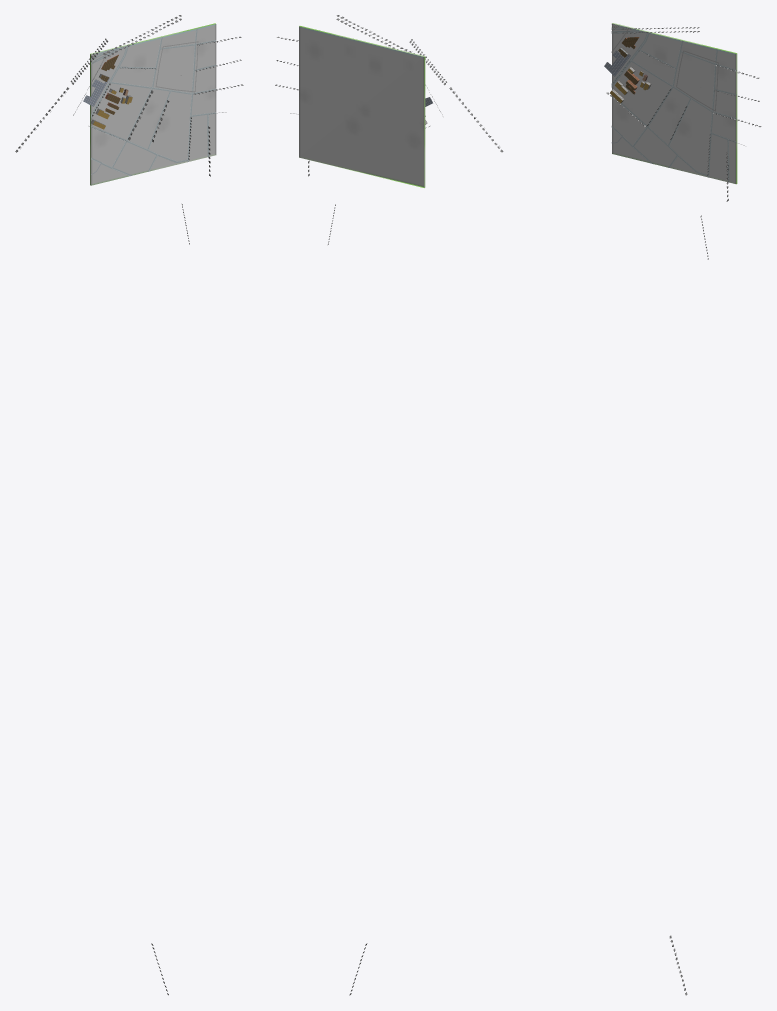
3 renders of one model, left to right at view 1: azimuth 30°, elevation 25°; view 2: azimuth 150°, elevation 25°; view 3: azimuth 330°, elevation 25°, orthographic.
Parts seen in each view (by area): view 1: POLYGON, POLYLINE, FONT, BUILDING; view 2: POLYGON, FONT; view 3: POLYGON, POLYLINE, BUILDING, FONT.
Part boxes in pixels (bbox=[...]): POLYGON: bbox=[83, 23, 216, 185]; POLYLINE: bbox=[91, 28, 216, 176]; FONT: bbox=[15, 15, 243, 995]; BUILDING: bbox=[91, 54, 132, 129]; POLYGON: bbox=[299, 26, 432, 187]; FONT: bbox=[275, 15, 503, 995]; POLYGON: bbox=[604, 23, 737, 184]; POLYLINE: bbox=[611, 23, 736, 182]; BUILDING: bbox=[610, 37, 651, 103]; FONT: bbox=[606, 27, 761, 995].
Bounding box in the file's own units: 1114 × 4552 × 29.
